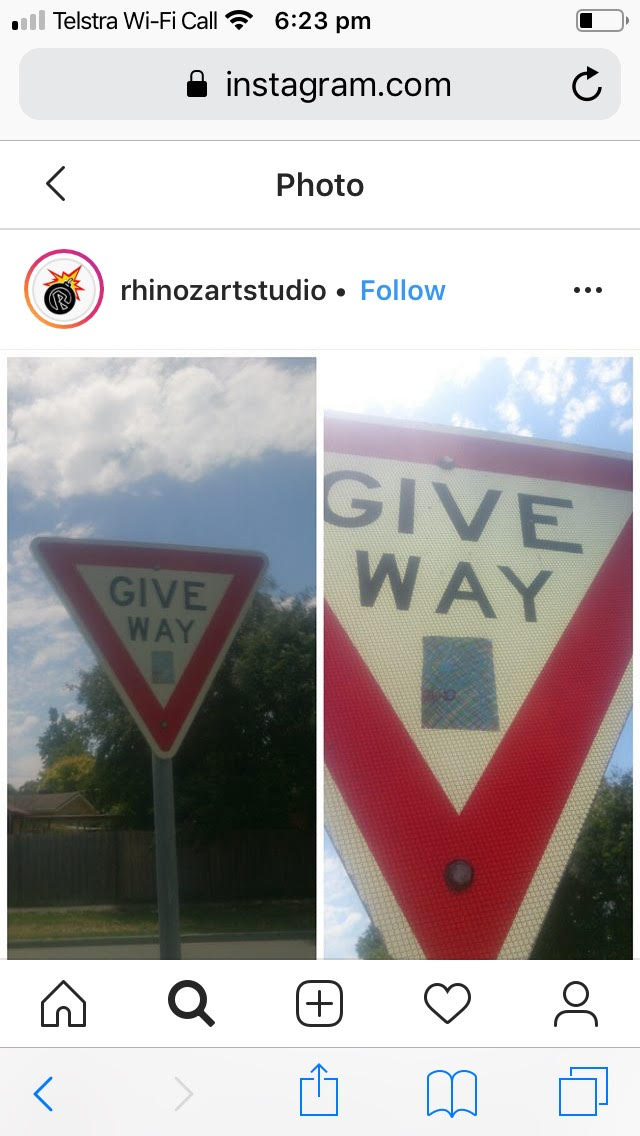giveway: (319, 408, 625, 951), (331, 419, 613, 737), (27, 533, 270, 761), (56, 544, 274, 690)
